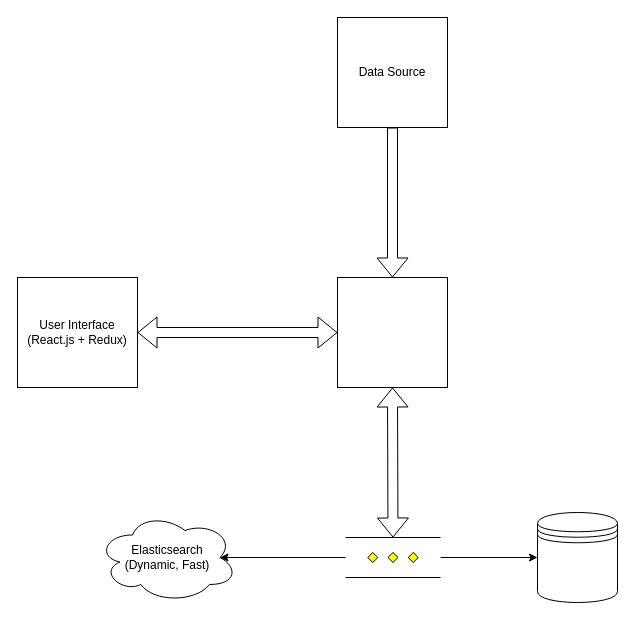
Some shapes in this 635 by 620 pixel diagram are drawn without their labels. The centre of each missing label's shape, as x and y in pixels:
Backend (Java + SpringBoot): point 392,332
CouchDB (Static, Slow): point 577,557
